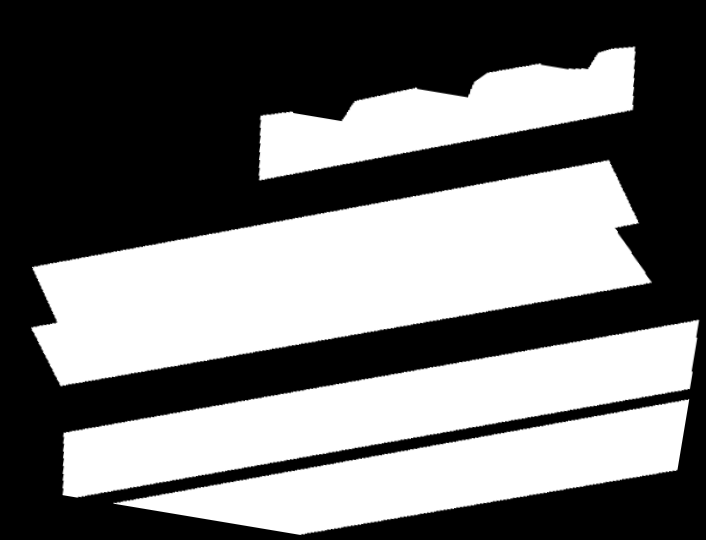parkingspot: (31, 160, 651, 386), (62, 320, 699, 498), (114, 399, 689, 535), (259, 46, 636, 181)
